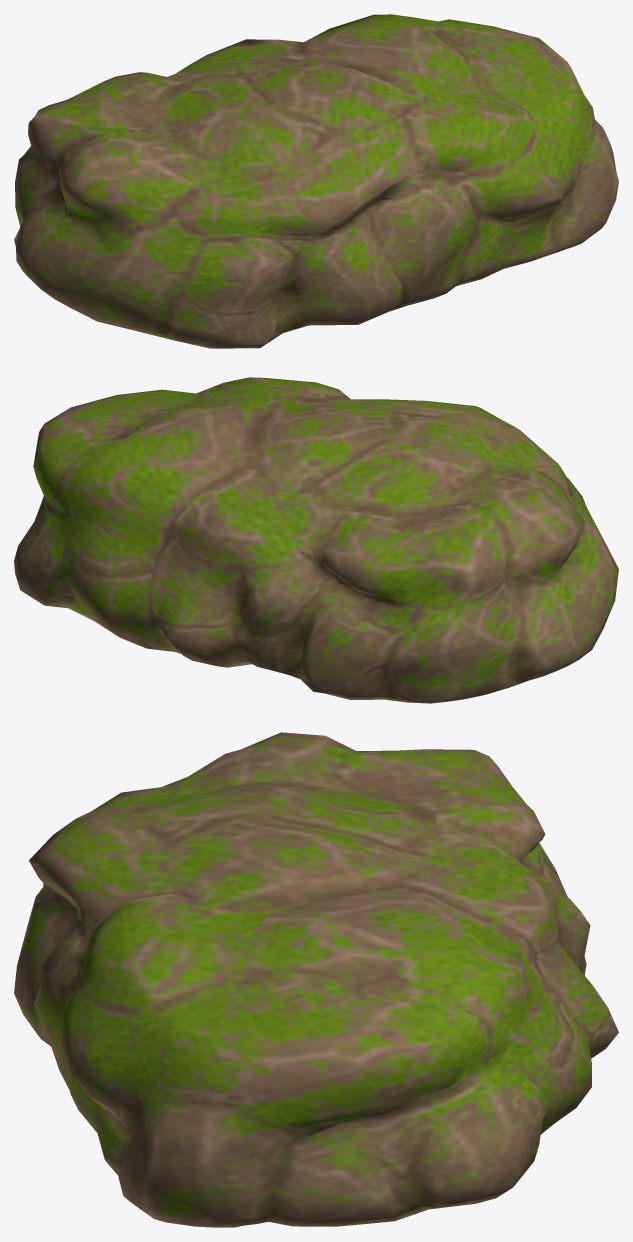
The model's file is sb_obj_nature006_Stone03d.fbx.
3 views of the same model, one above another, from view 1: azimuth 30°, elevation 25°; view 2: azimuth 150°, elevation 25°; view 3: azimuth 270°, elevation 25° (orthographic). The views are drawn at different scales.
Visible parts, largest first — view 1: sb_obj_nature006_Stone03d; view 2: sb_obj_nature006_Stone03d; view 3: sb_obj_nature006_Stone03d.
Part boxes in pixels (x1,y1,x2,y2): sb_obj_nature006_Stone03d: (14,14,618,348); sb_obj_nature006_Stone03d: (14,377,618,703); sb_obj_nature006_Stone03d: (14,732,618,1227).
Bounding box in the file's own units: 1.09 × 0.352 × 0.8086.
